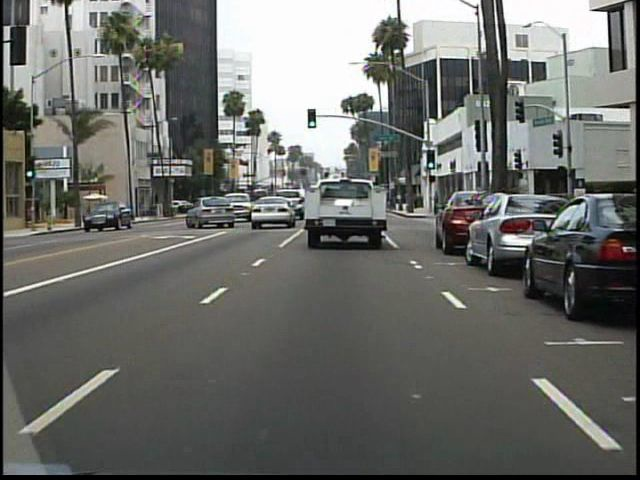person: (429, 189, 444, 216)
